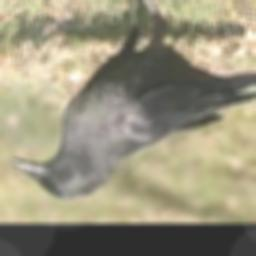Crow: (11, 0, 256, 201)
